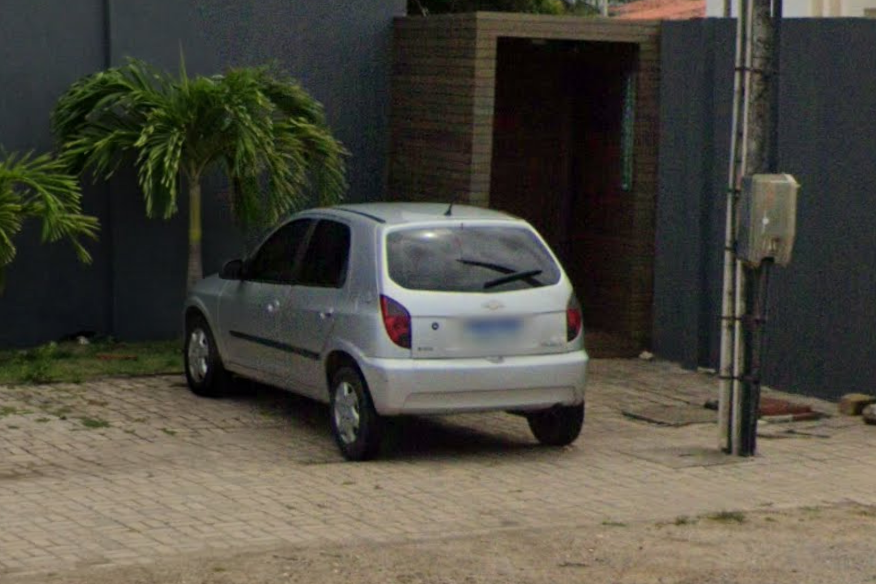car: (179, 185, 590, 463)
